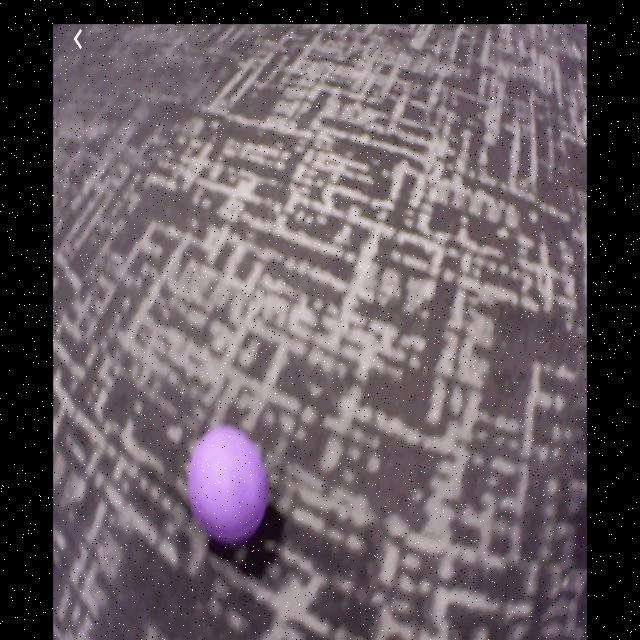ball: (188, 424, 268, 544)
